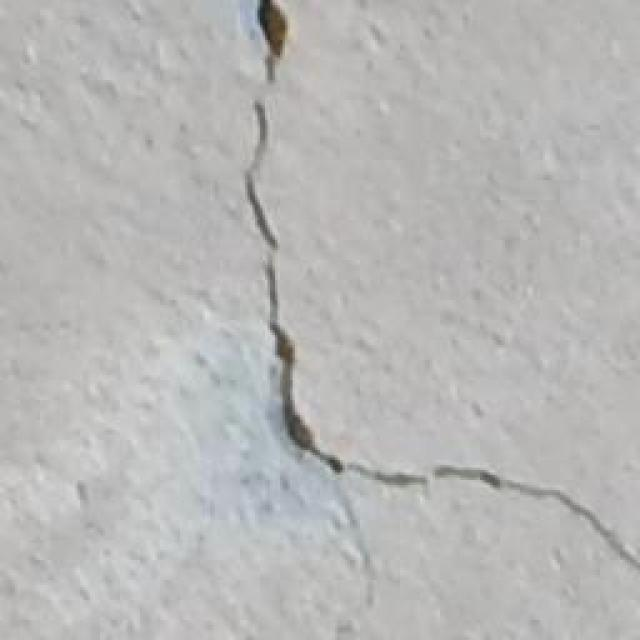concrete-crack: (248, 102, 640, 570), (255, 0, 290, 88)
